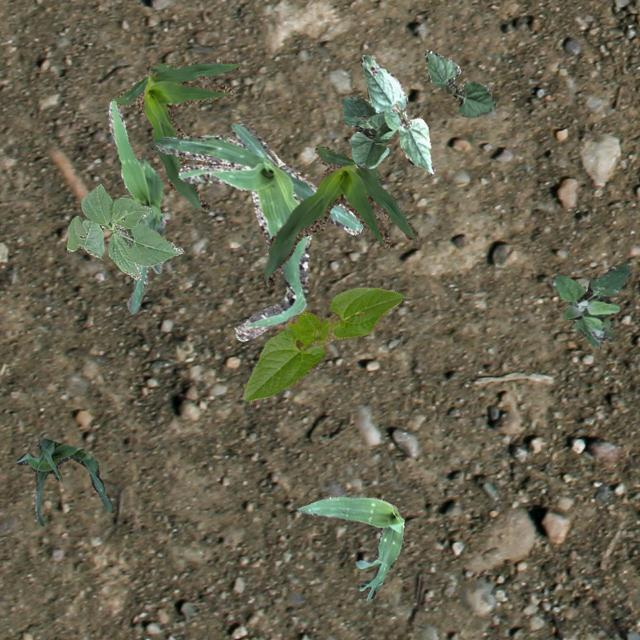crop: (148, 122, 362, 340), (262, 144, 416, 284), (115, 58, 242, 212), (242, 286, 402, 401), (108, 100, 164, 312), (296, 494, 404, 598), (66, 182, 182, 278), (358, 54, 434, 174), (15, 438, 114, 524), (424, 48, 494, 116), (342, 96, 398, 168)
weed: (550, 262, 628, 348)
